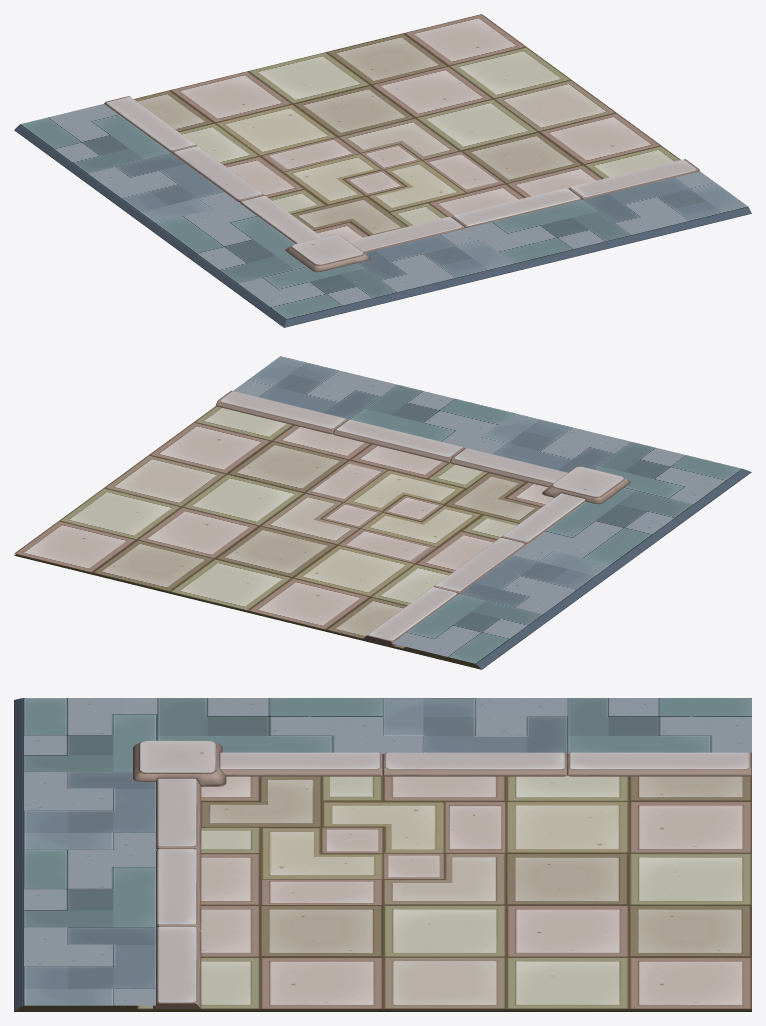
Rendered from road_openCorner.glb.
The picture shows the model from 3 angles, top to bottom: view 1: azimuth 30°, elevation 25°; view 2: azimuth 150°, elevation 25°; view 3: azimuth 270°, elevation 25°; orthographic projection. The views are drawn at different scales.
Visible parts, largest first — view 1: road_05; view 2: road_05; view 3: road_05.
Boxes of the visible parts, x1=… form: road_05: x1=14, y1=14, x2=751, y2=327; road_05: x1=14, y1=356, x2=751, y2=669; road_05: x1=14, y1=698, x2=751, y2=1011.
Size of what is drawn, in the model's own units: 16 by 0.2943 by 16.
Materials: 1 (1 with a texture image).
